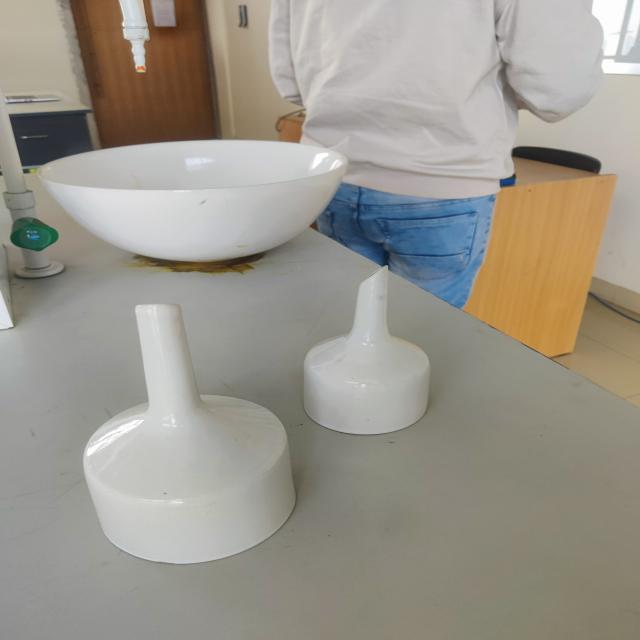Buchner_Funnel: (62, 274, 312, 593), (280, 234, 475, 450)
